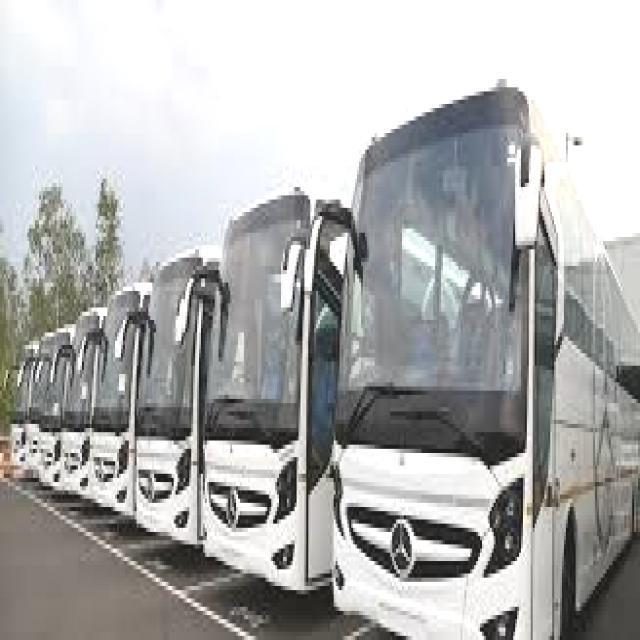Bus: (338, 76, 640, 640), (199, 165, 344, 615), (130, 234, 213, 564), (86, 264, 139, 546), (56, 282, 95, 526), (36, 296, 69, 506), (4, 316, 30, 497)
